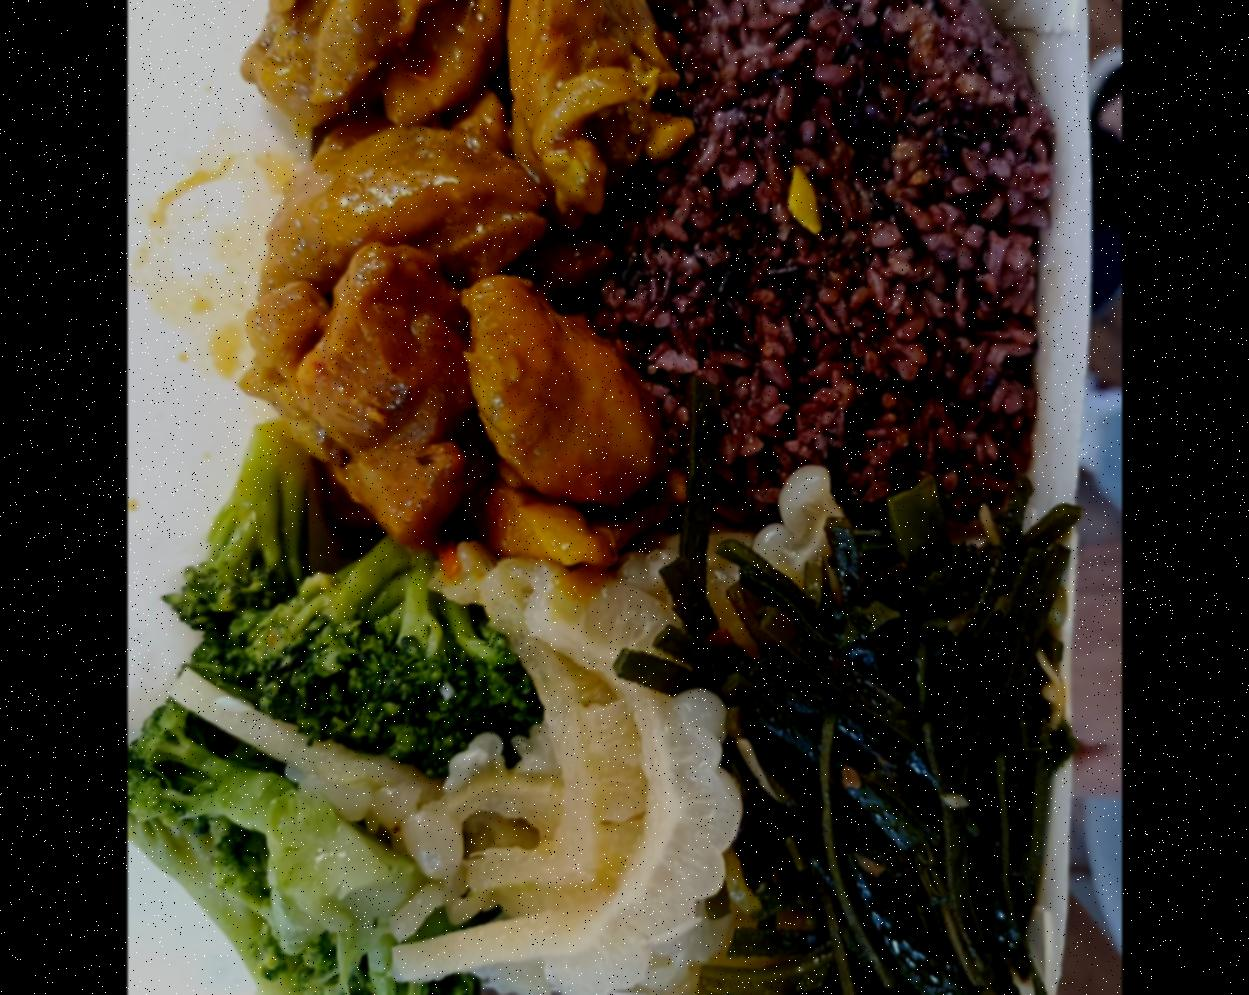box: (203, 0, 1111, 995)
curry chicken: (239, 0, 673, 565)
purple rice: (613, 0, 1054, 521)
side dish: (707, 485, 1052, 995), (165, 517, 511, 995), (451, 546, 742, 995)
